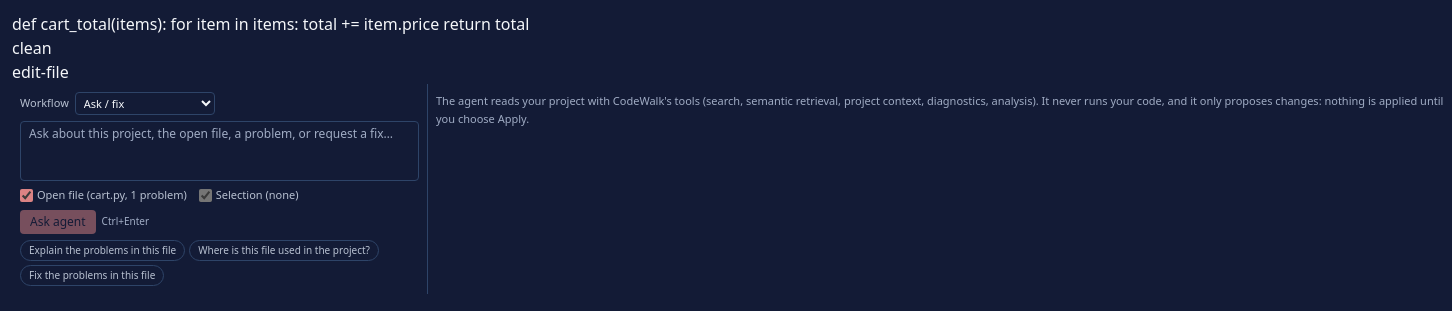
Test case: Agent panel › shows no access states
Type "Why?" into the text box named "Ask about your project" at coordinates (220, 151), box [20, 121, 419, 181]
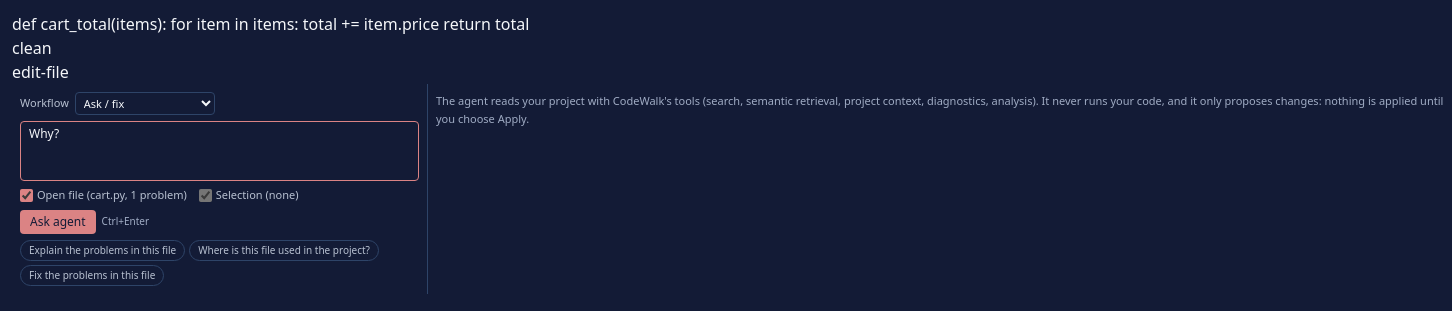
Click the button "Ask agent" at coordinates (58, 222), box [20, 210, 96, 234]
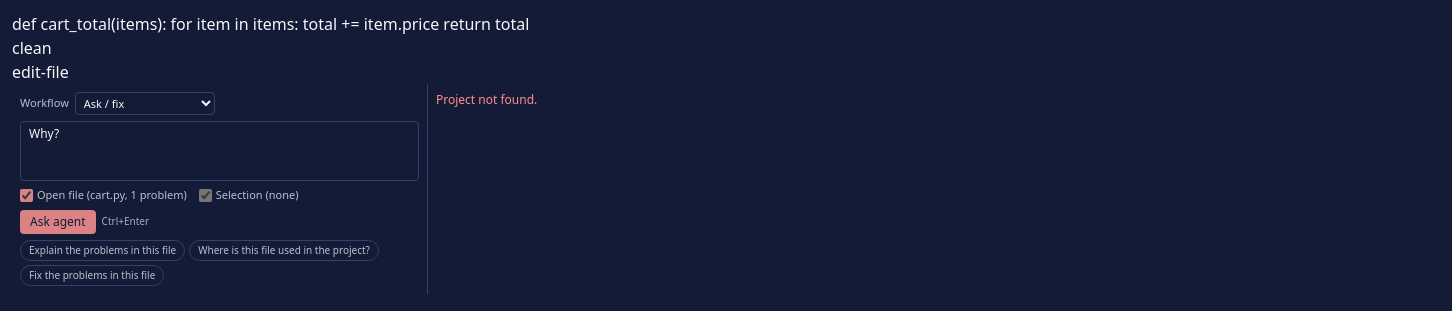
expect the button "Ask agent" is enabled: met, box [20, 210, 96, 234]
expect the message shows "Project not found": met, box [436, 91, 537, 108]
